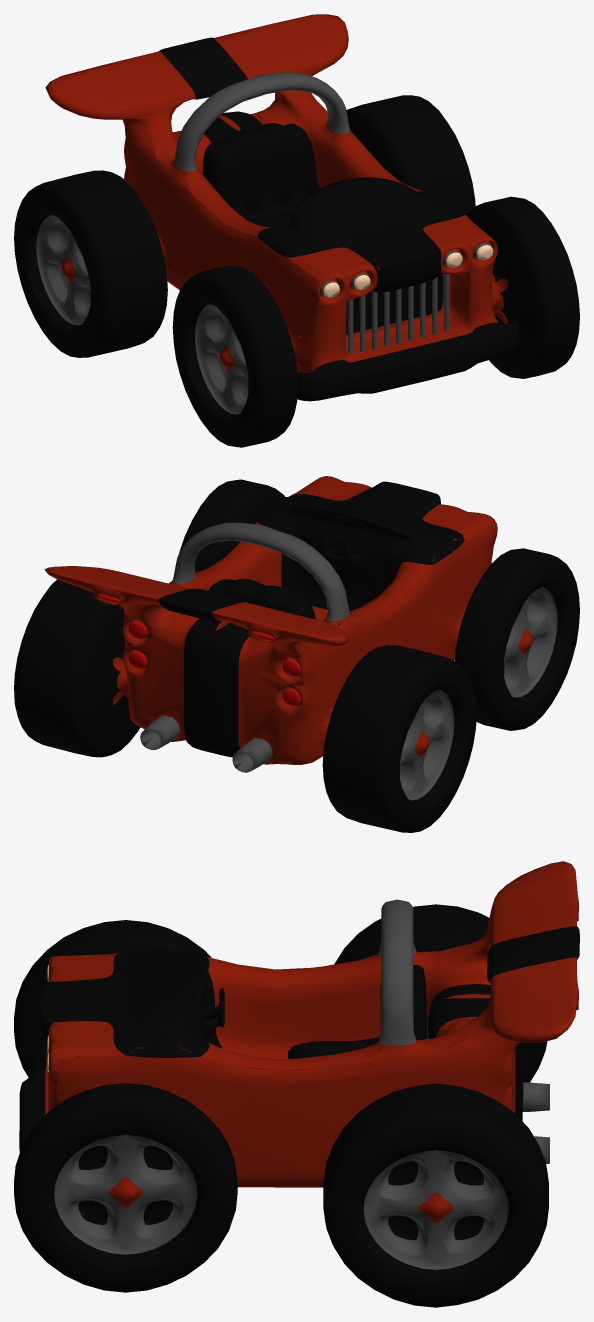
File: racecar.FBX
3 views of the same model, one above another, from view 1: azimuth 30°, elevation 25°; view 2: azimuth 150°, elevation 25°; view 3: azimuth 270°, elevation 25° (orthographic). The views are drawn at different scales.
Parts seen in each view (by area): view 1: Box01; view 2: Box01; view 3: Box01.
Part boxes in pixels (box(x1,y1,x2,y2)): Box01: box(14, 14, 579, 447); Box01: box(14, 476, 579, 832); Box01: box(14, 861, 579, 1307).
Size of the model in its own units: 0.4078 by 0.2504 by 0.4462.
